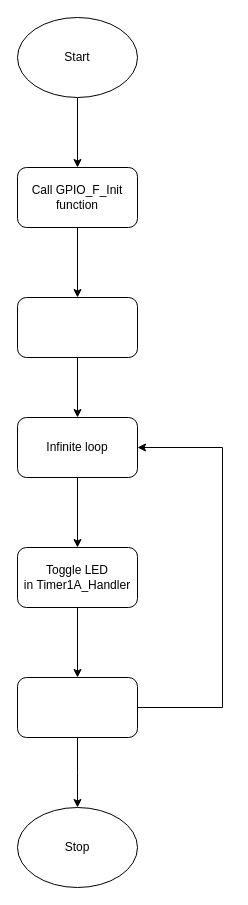
The diagram is 248 pixels wide and 905 high, and some of its shapes have lost their labels. Here are the shapes that lost their labels. From the top down, the box of each, then its label:
(16, 296, 138, 358): Call Timer1_Init function
(16, 676, 138, 738): Clear timer interrupt in Timer1A_Handler
